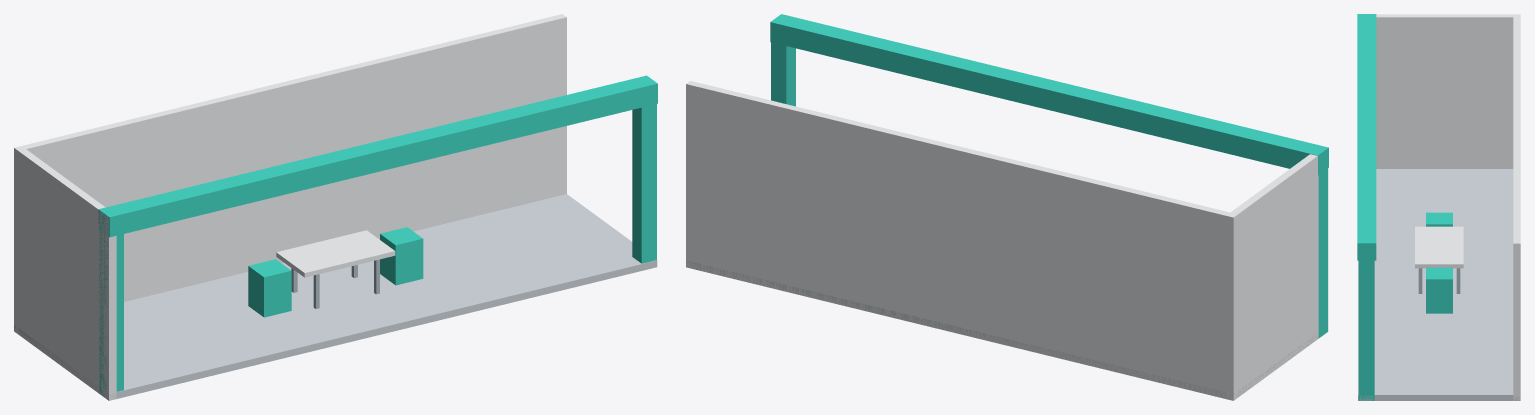
3 views of the same model, side by side, from view 1: azimuth 30°, elevation 25°; view 2: azimuth 150°, elevation 25°; view 3: azimuth 270°, elevation 25° (orthographic). The views are drawn at different scales.
Parts seen in each view (by area): view 1: Exhibition Booth Concept; view 2: Exhibition Booth Concept; view 3: Exhibition Booth Concept.
Boxes of the visible parts, <box> form: Exhibition Booth Concept: <box>14,14,657,400</box>; Exhibition Booth Concept: <box>686,14,1328,400</box>; Exhibition Booth Concept: <box>1357,14,1520,400</box>.
Bounding box in the file's own units: 10 × 3.2 × 3.01.
